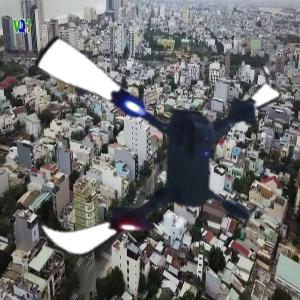drone: (2, 11, 289, 298)
